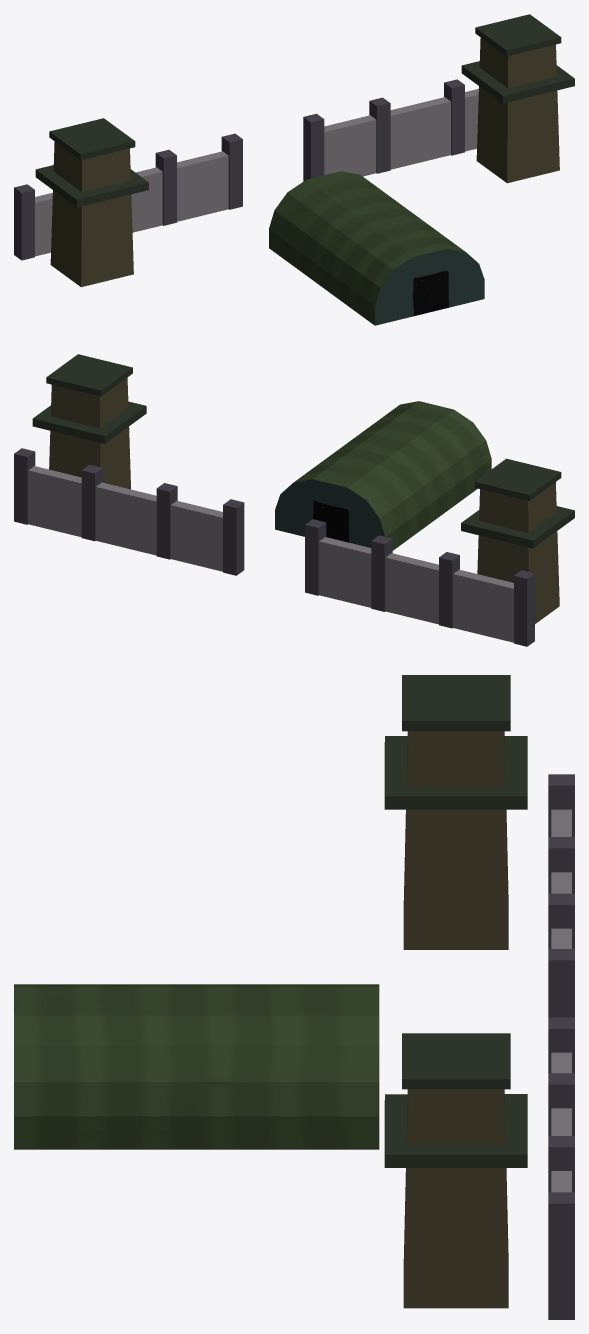
The model's file is base_sva.fbx.
3 views of the same model, one above another, from view 1: azimuth 30°, elevation 25°; view 2: azimuth 150°, elevation 25°; view 3: azimuth 270°, elevation 25° (orthographic). The views are drawn at different scales.
Parts seen in each view (by area): view 1: SVN_base; view 2: SVN_base; view 3: SVN_base.
Part boxes in pixels (x1,y1,x2,y2): SVN_base: (14,14,574,325); SVN_base: (14,354,574,646); SVN_base: (14,675,574,1319).
Size of the model in its own units: 2927 by 731 by 1617.
